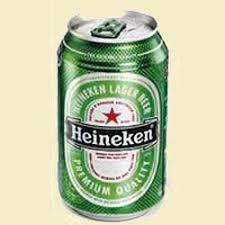beer: (57, 11, 168, 219)
